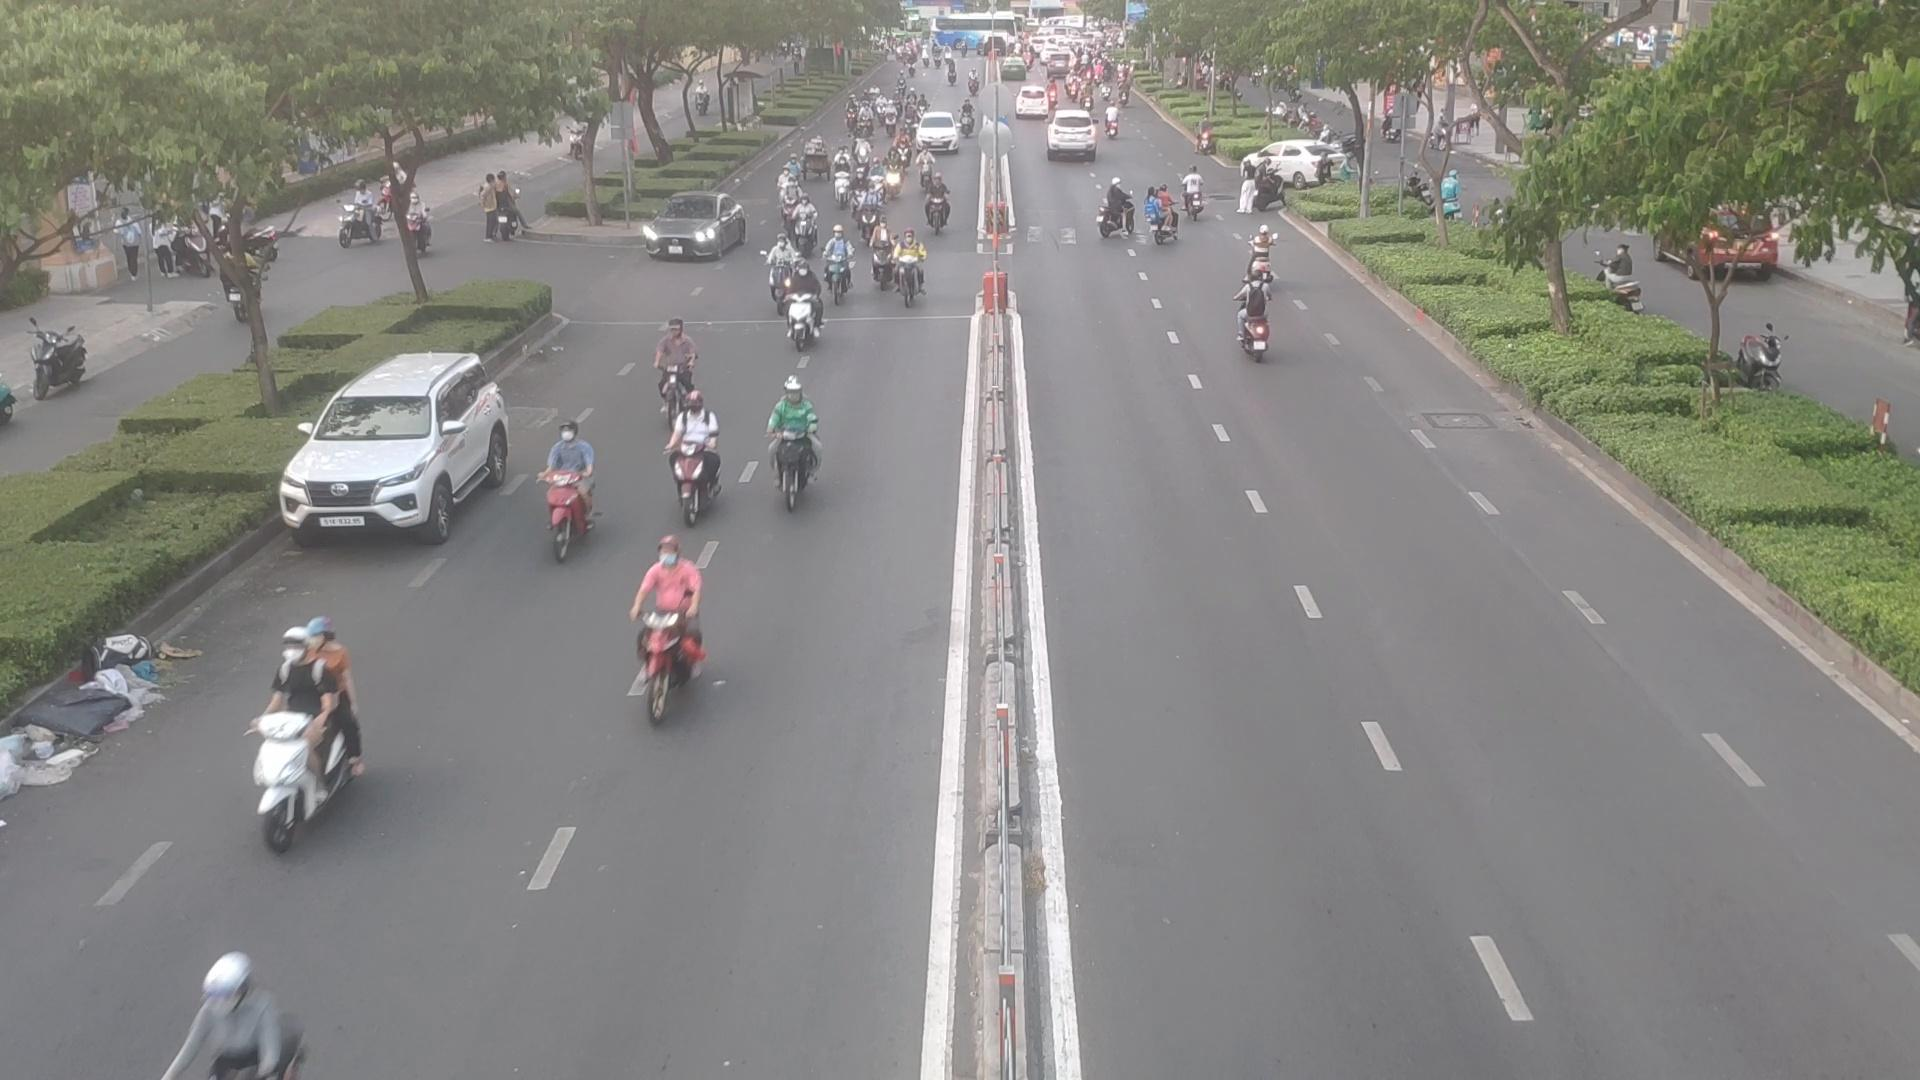car: (280, 355, 517, 546), (638, 193, 748, 262), (1246, 137, 1360, 195), (1046, 109, 1093, 157)
motorbike: (256, 618, 363, 860), (632, 539, 703, 731), (535, 422, 597, 556), (760, 385, 822, 509), (669, 396, 720, 512), (651, 320, 703, 427), (1236, 268, 1276, 361), (782, 262, 819, 344), (894, 225, 922, 311), (765, 239, 799, 305), (1102, 175, 1135, 243), (1145, 186, 1178, 245), (1247, 228, 1275, 297), (822, 228, 848, 295), (1182, 166, 1209, 224), (866, 223, 890, 287), (927, 175, 949, 233), (794, 199, 816, 255), (862, 185, 878, 239), (783, 185, 800, 233), (895, 131, 915, 167), (833, 161, 848, 208), (916, 146, 934, 186), (886, 148, 899, 196), (851, 171, 864, 218), (775, 170, 793, 202), (872, 161, 882, 196), (856, 138, 868, 170)
